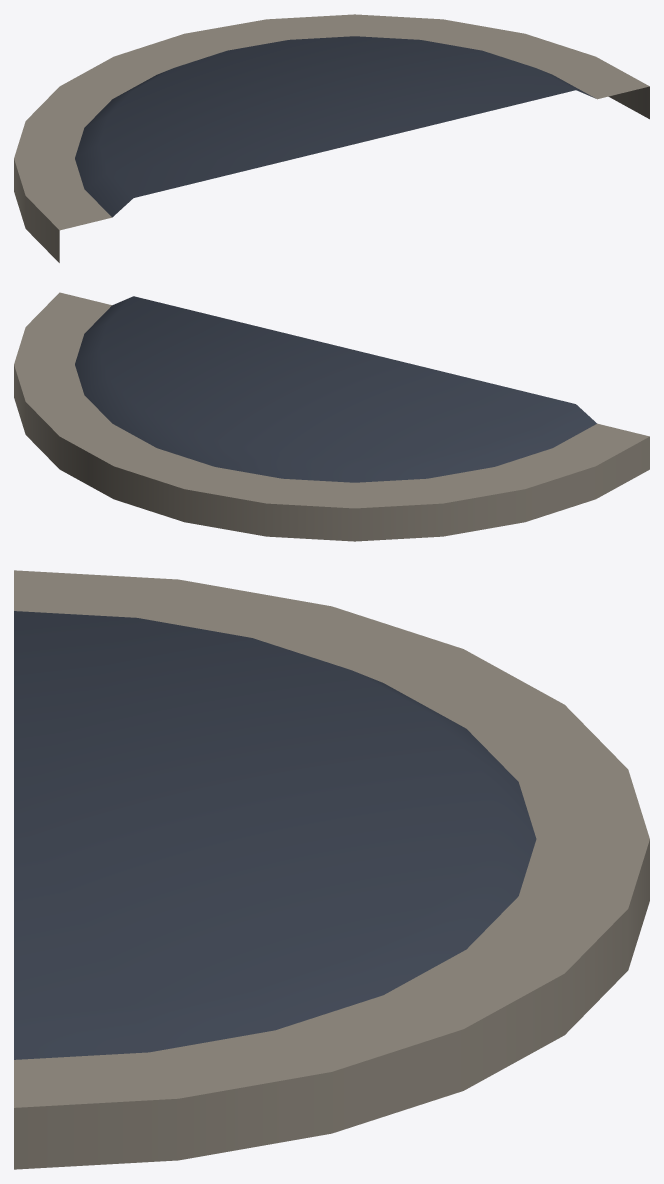
The model's file is RoadMid_3_E.fbx.
The picture shows the model from 3 angles, top to bottom: view 1: azimuth 30°, elevation 25°; view 2: azimuth 150°, elevation 25°; view 3: azimuth 270°, elevation 25°; orthographic projection. The views are drawn at different scales.
Parts seen in each view (by area): view 1: RoadMid_3_E; view 2: RoadMid_3_E; view 3: RoadMid_3_E.
Boxes of the visible parts, x1,y1,x2,y2 form: RoadMid_3_E: [14, 14, 649, 262]; RoadMid_3_E: [14, 292, 649, 541]; RoadMid_3_E: [14, 570, 649, 1169].
Size of the model in its own units: 299 by 22.96 by 150.
